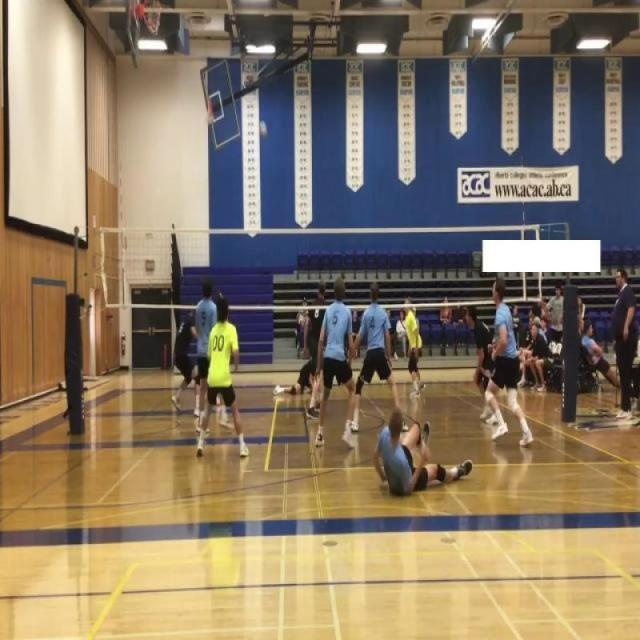volleyball: (259, 121, 268, 140)
